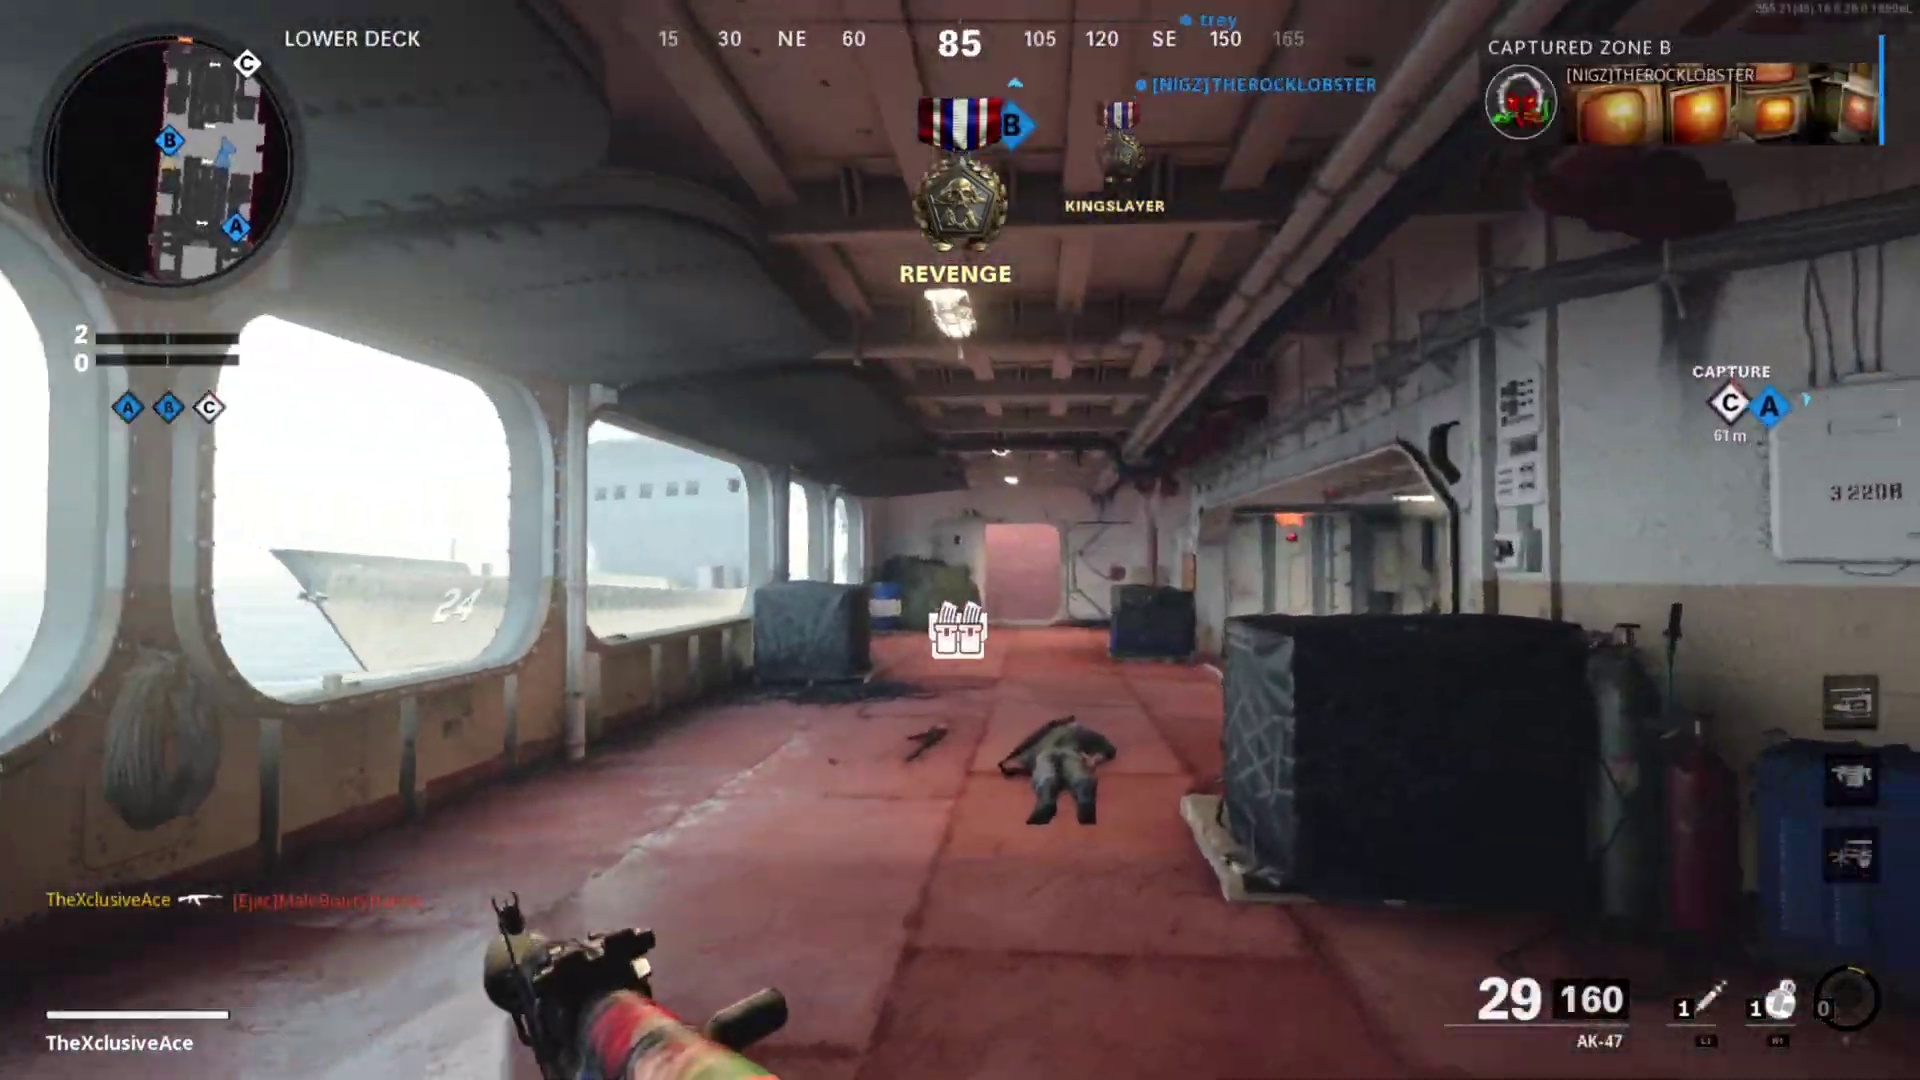person: (1016, 715, 1113, 826)
